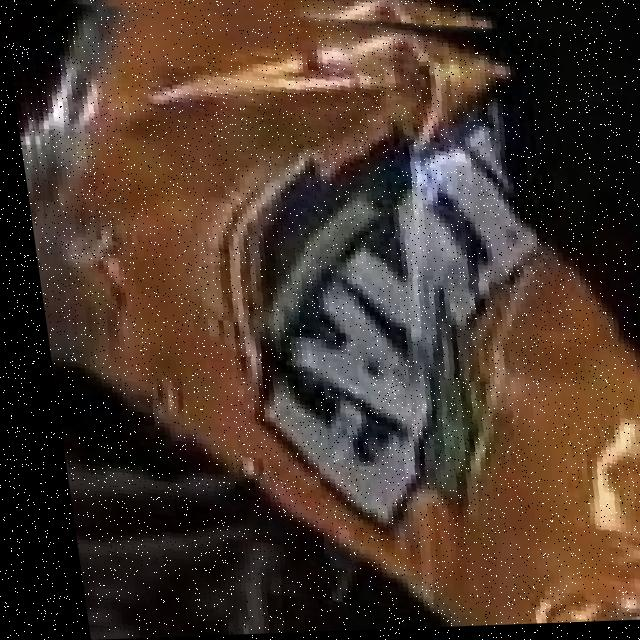can: (33, 4, 640, 629)
